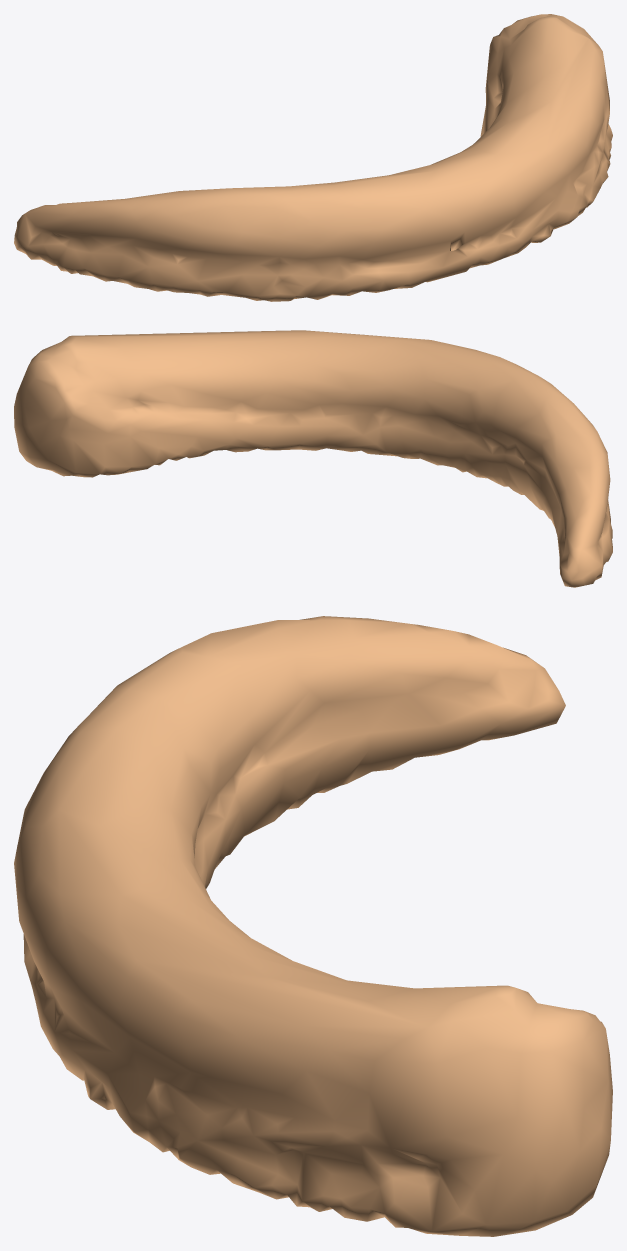
Rendered from Fossil6.fbx.
3 renders of one model, top to bottom at view 1: azimuth 30°, elevation 25°; view 2: azimuth 150°, elevation 25°; view 3: azimuth 270°, elevation 25°, orthographic. The views are drawn at different scales.
Parts seen in each view (by area): view 1: fossil20; view 2: fossil20; view 3: fossil20.
Boxes of the visible parts, x1=… form: fossil20: x1=14, y1=14, x2=612, y2=301; fossil20: x1=14, y1=330, x2=612, y2=587; fossil20: x1=14, y1=616, x2=612, y2=1236.
Size of the model in its own units: 122 by 23.3 by 58.66.
